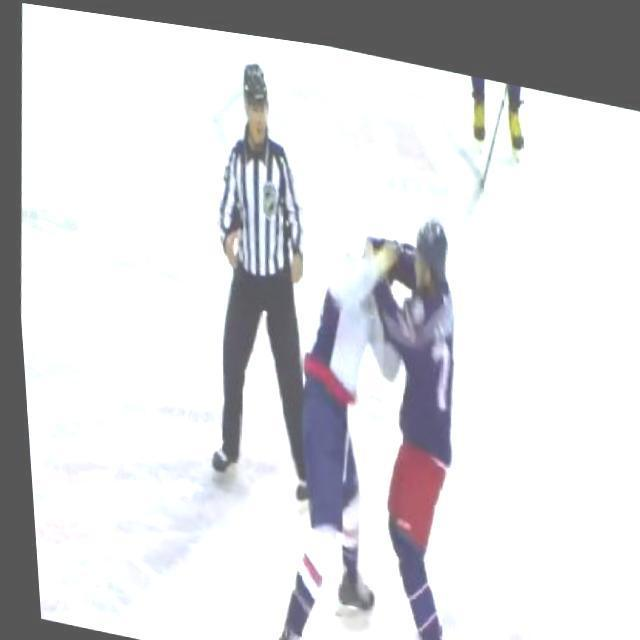fight: (241, 173, 484, 640)
